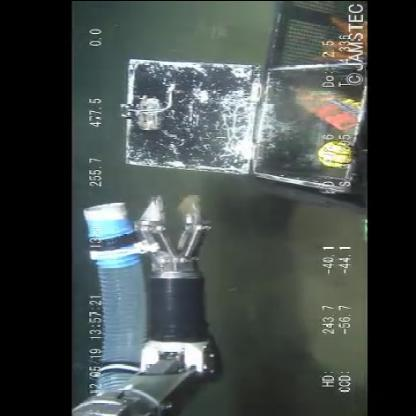Rov: (72, 192, 222, 416)
Rác: (289, 82, 365, 134)
